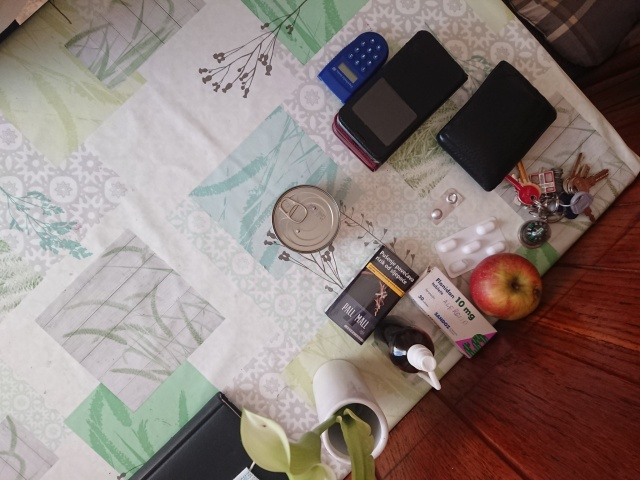Podravka Luncheon Meat 150g: (270, 183, 343, 256)
